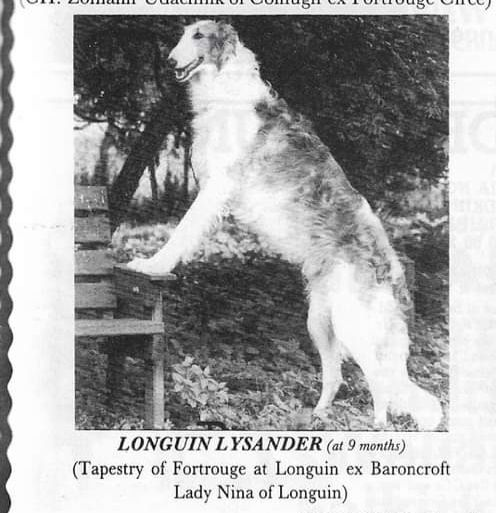borzoi: (124, 18, 443, 427)
